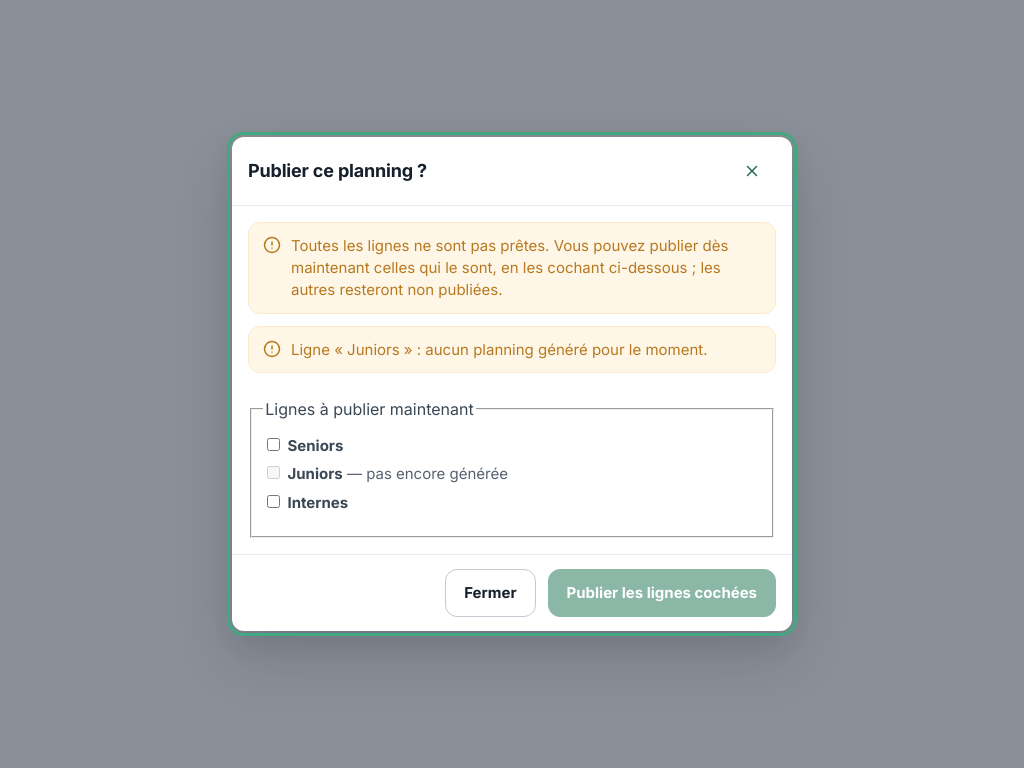
it: PublishModal — partial publication (docs/decisions.md D196) › some lines not ready: they are shown, and only the lines explicitly checked are published
expect the text "Toutes les lignes ne sont pas prêtes" is shown: met, box x1=291 y1=236 x2=728 y2=299
expect the button "Publier les lignes cochées" is disabled: met, box x1=548 y1=569 x2=776 y2=617
Click the checkbox labelled "Seniors": (274, 444) x1=267 y1=438 x2=280 y2=451
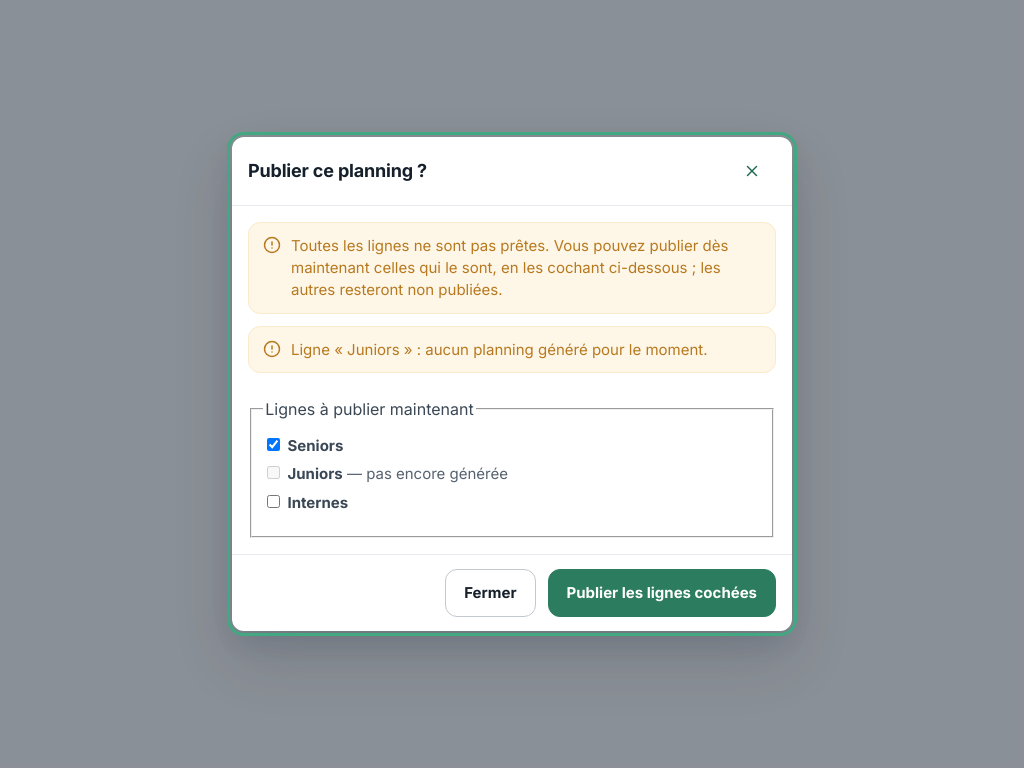
Click the button "Publier les lignes cochées": (662, 593) x1=548 y1=569 x2=776 y2=617
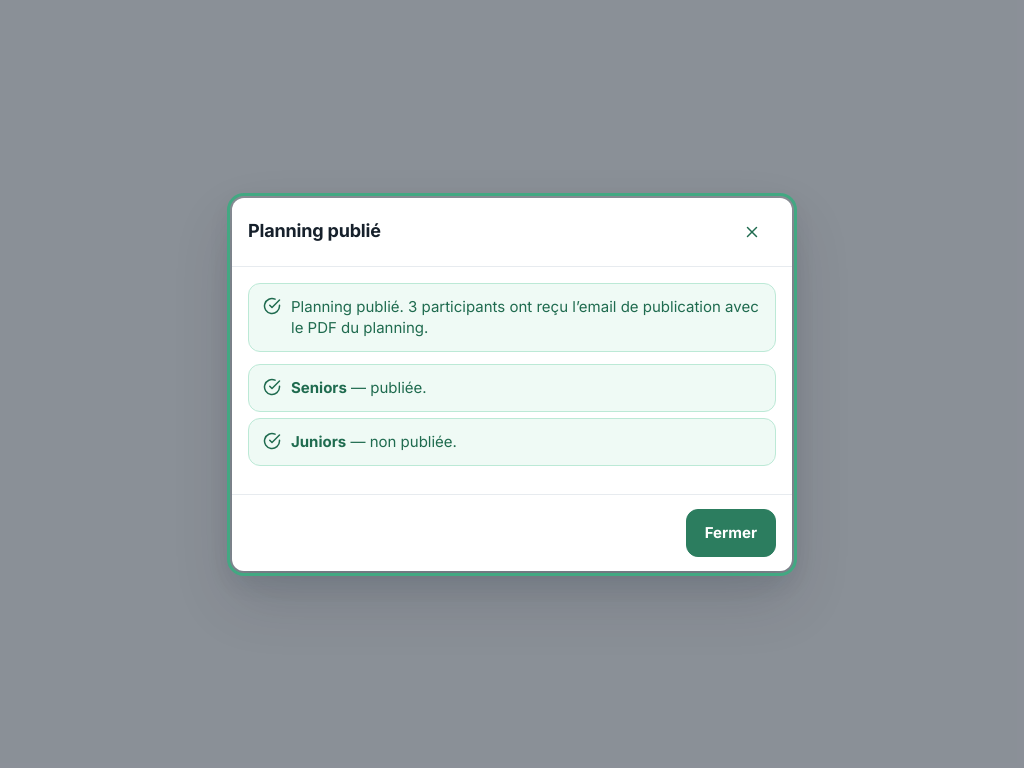
expect the heading "Planning publié" is shown: met, box x1=248 y1=221 x2=381 y2=242
expect the list named "Résultat de la publication" shows "Juniors — non publiée.": met, box x1=248 y1=364 x2=776 y2=466
